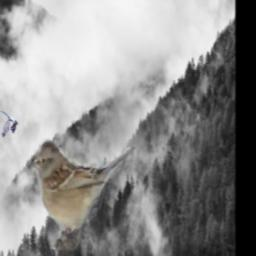Sparrow: (35, 138, 137, 251)
Swallow: (0, 110, 18, 137)
